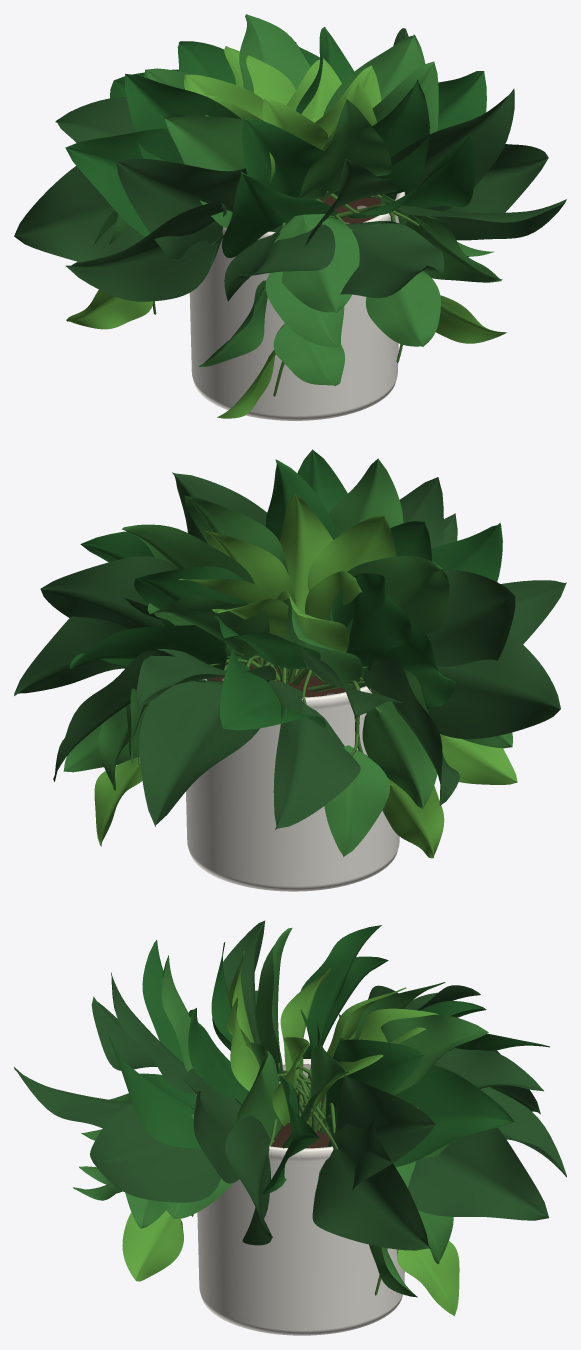
File: plant_pot_realistic.glb
3 renders of one model, top to bottom at view 1: azimuth 30°, elevation 25°; view 2: azimuth 150°, elevation 25°; view 3: azimuth 270°, elevation 25°, orthographic. The views are drawn at different scales.
Visible parts, largest first — view 1: Foliage_Assembly, Glazed_Stoneware_Pot, Mounded_Potting_Soil; view 2: Foliage_Assembly, Glazed_Stoneware_Pot, Mounded_Potting_Soil; view 3: Foliage_Assembly, Glazed_Stoneware_Pot, Mounded_Potting_Soil.
Part boxes in pixels (x1,y1,x2,y2): Foliage_Assembly: (14, 14, 566, 418); Glazed_Stoneware_Pot: (189, 191, 405, 420); Mounded_Potting_Soil: (319, 195, 381, 223); Foliage_Assembly: (14, 449, 566, 858); Glazed_Stoneware_Pot: (186, 679, 399, 891); Mounded_Potting_Soil: (206, 654, 354, 697); Foliage_Assembly: (14, 920, 566, 1316); Glazed_Stoneware_Pot: (195, 1059, 404, 1335); Mounded_Potting_Soil: (271, 1098, 331, 1148).
Size of the model in its own units: 0.343 by 0.225 by 0.341.
